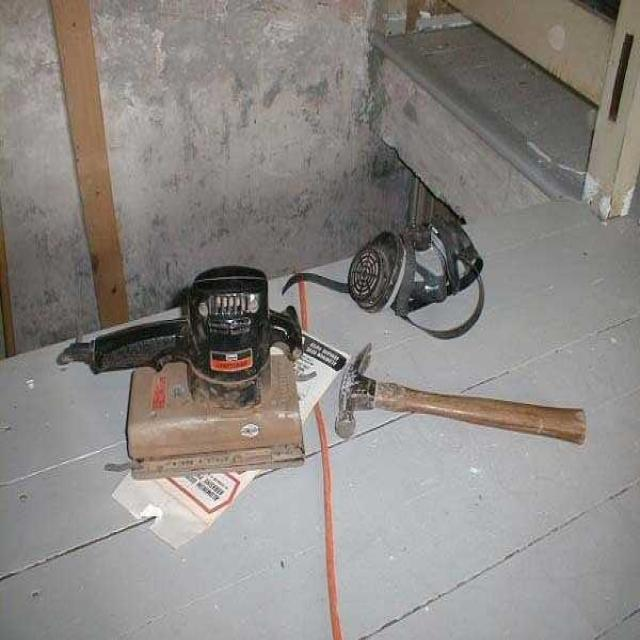hammer: (335, 342, 587, 444)
